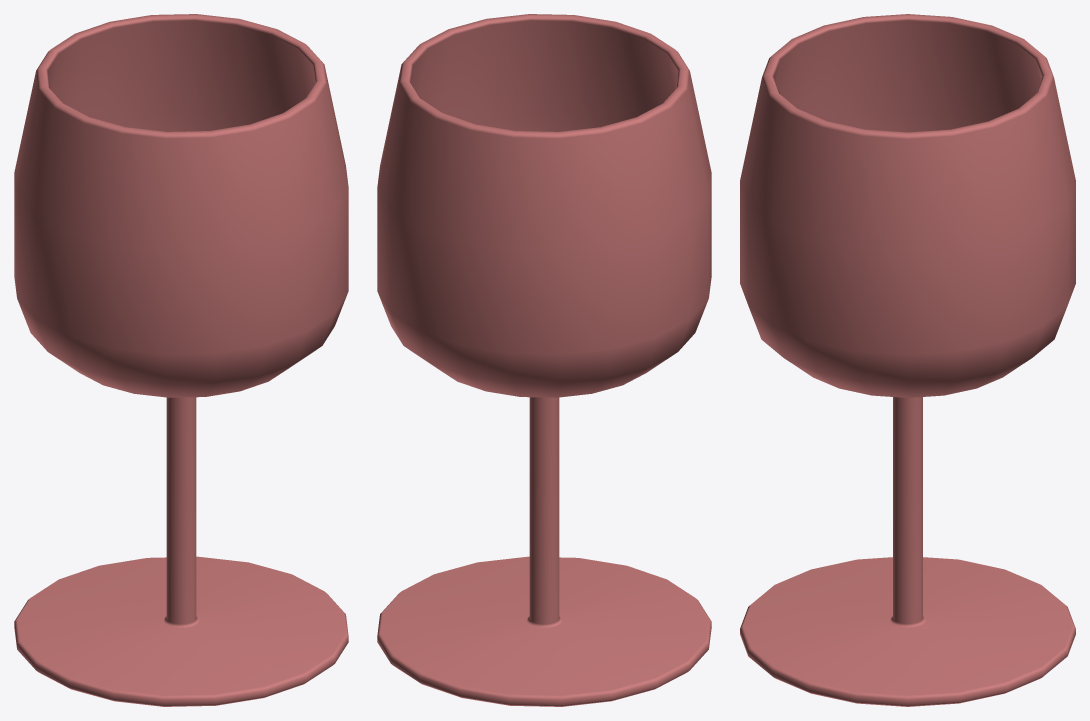
Rendered from Wine_Glass.fbx.
3 views of the same model, side by side, from view 1: azimuth 30°, elevation 25°; view 2: azimuth 150°, elevation 25°; view 3: azimuth 270°, elevation 25° (orthographic).
Parts seen in each view (by area): view 1: Wine_Glass; view 2: Wine_Glass; view 3: Wine_Glass.
Part boxes in pixels (<box>): Wine_Glass: <box>14,14,348,706</box>; Wine_Glass: <box>377,14,711,706</box>; Wine_Glass: <box>740,14,1075,706</box>.
Bounding box in the file's own units: 8.96 × 16.56 × 8.96.
